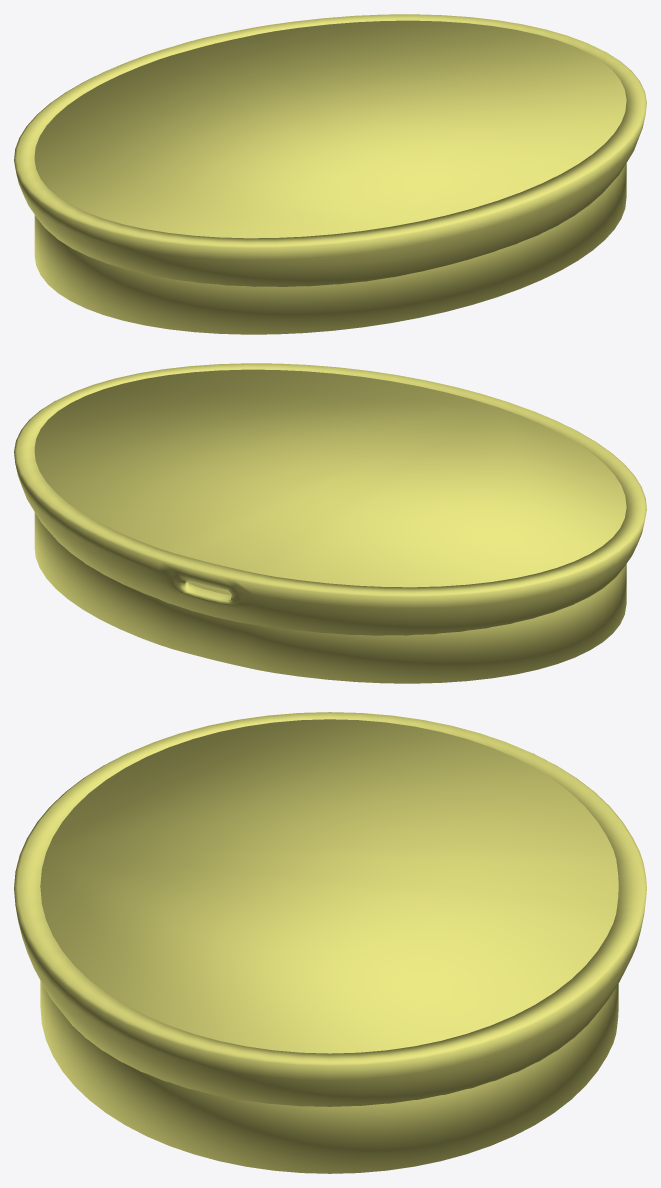
The picture shows the model from 3 angles, top to bottom: view 1: azimuth 30°, elevation 25°; view 2: azimuth 150°, elevation 25°; view 3: azimuth 270°, elevation 25°; orthographic projection. The views are drawn at different scales.
Visible parts, largest first — view 1: Mask, OV 48; view 2: Mask, OV 48; view 3: Mask, OV 48.
Boxes of the visible parts, bbox=[...] form: Mask: bbox=[34, 20, 626, 334]; OV 48: bbox=[14, 14, 646, 286]; Mask: bbox=[34, 369, 626, 683]; OV 48: bbox=[14, 363, 646, 635]; Mask: bbox=[40, 719, 618, 1173]; OV 48: bbox=[14, 712, 646, 1106].
Bounding box in the file's own units: 51.38 × 12.54 × 38.92.
